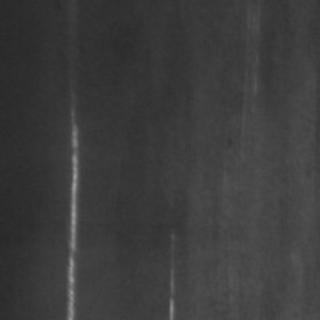scratches: (61, 106, 81, 316)
